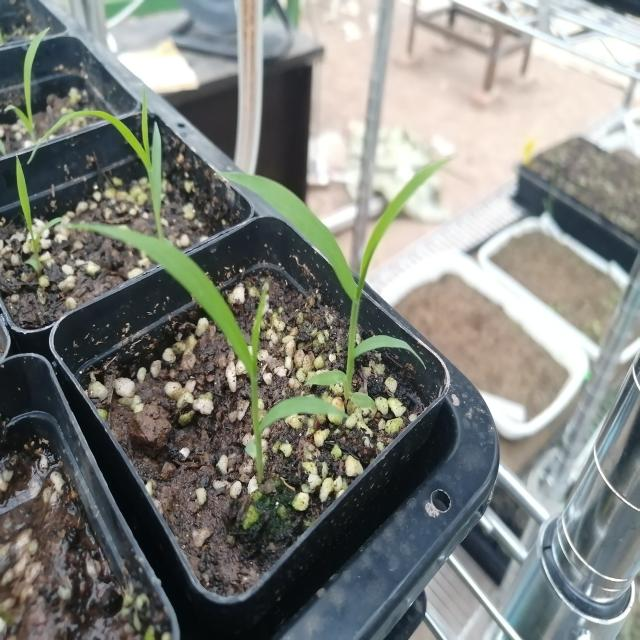crabgrass: (105, 224, 321, 440), (250, 146, 430, 384), (57, 87, 183, 204)
